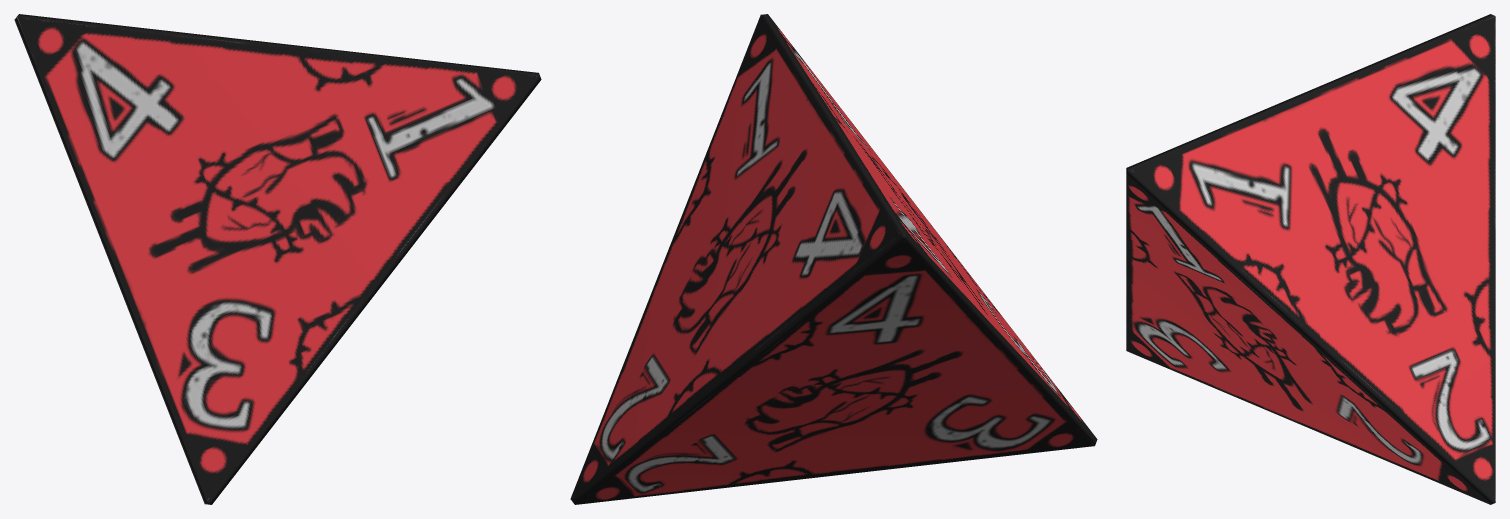
The model's file is d4-carrion.glb.
3 views of the same model, side by side, from view 1: azimuth 30°, elevation 25°; view 2: azimuth 150°, elevation 25°; view 3: azimuth 270°, elevation 25° (orthographic). The views are drawn at different scales.
Parts seen in each view (by area): view 1: Mesh_0; view 2: Mesh_0; view 3: Mesh_0.
Part boxes in pixels (bbox=[...]): Mesh_0: bbox=[14, 14, 541, 504]; Mesh_0: bbox=[570, 14, 1097, 504]; Mesh_0: bbox=[1126, 14, 1495, 504].
Bounding box in the file's own units: 135 × 135 × 135.
1 material, 1 textured.
